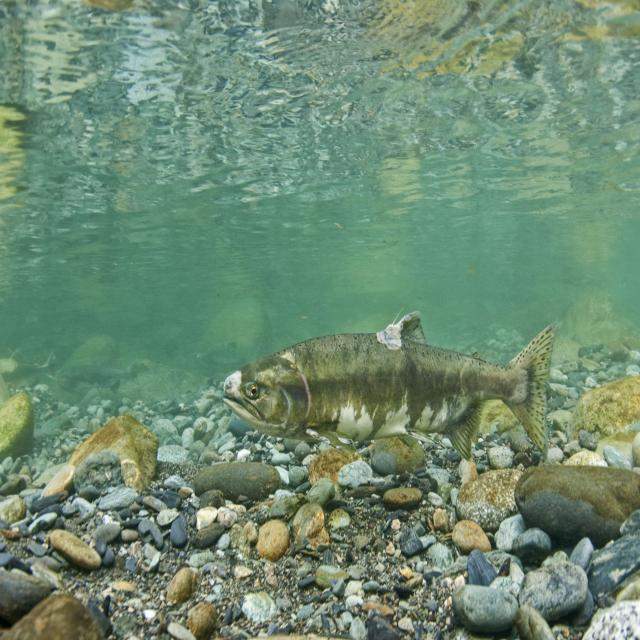salmon: (207, 308, 569, 458)
